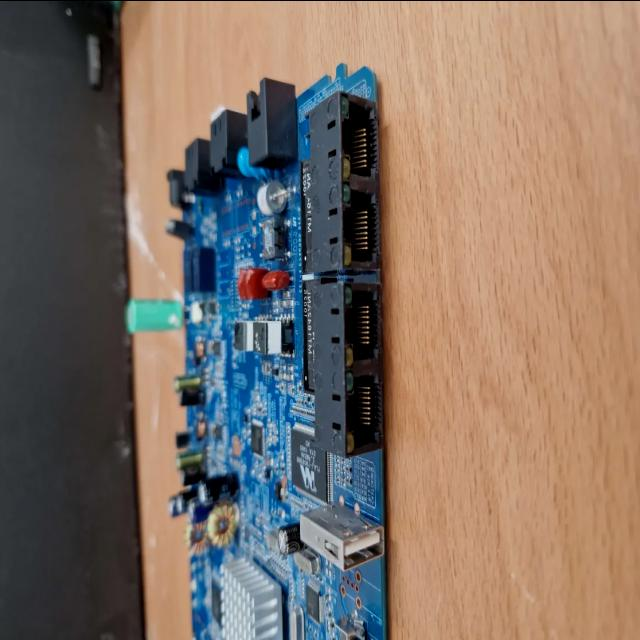A: (208, 502, 239, 545), (186, 517, 208, 552)
C: (200, 474, 240, 503), (280, 522, 308, 552)
F: (307, 92, 377, 186), (314, 366, 382, 456), (312, 188, 381, 272), (312, 282, 381, 364), (246, 78, 296, 166), (211, 110, 247, 172), (184, 138, 220, 192), (164, 170, 188, 208)
